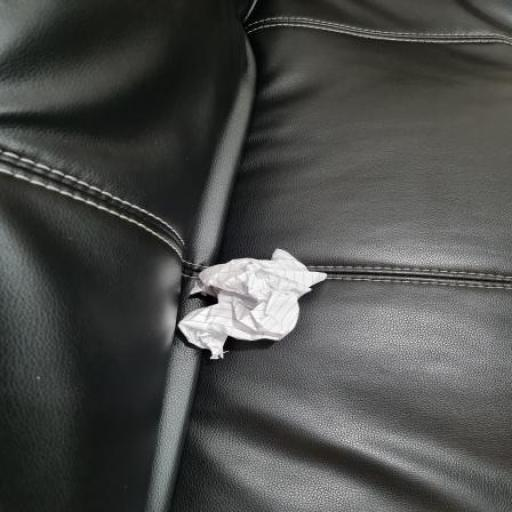paper: (184, 249, 328, 360)
